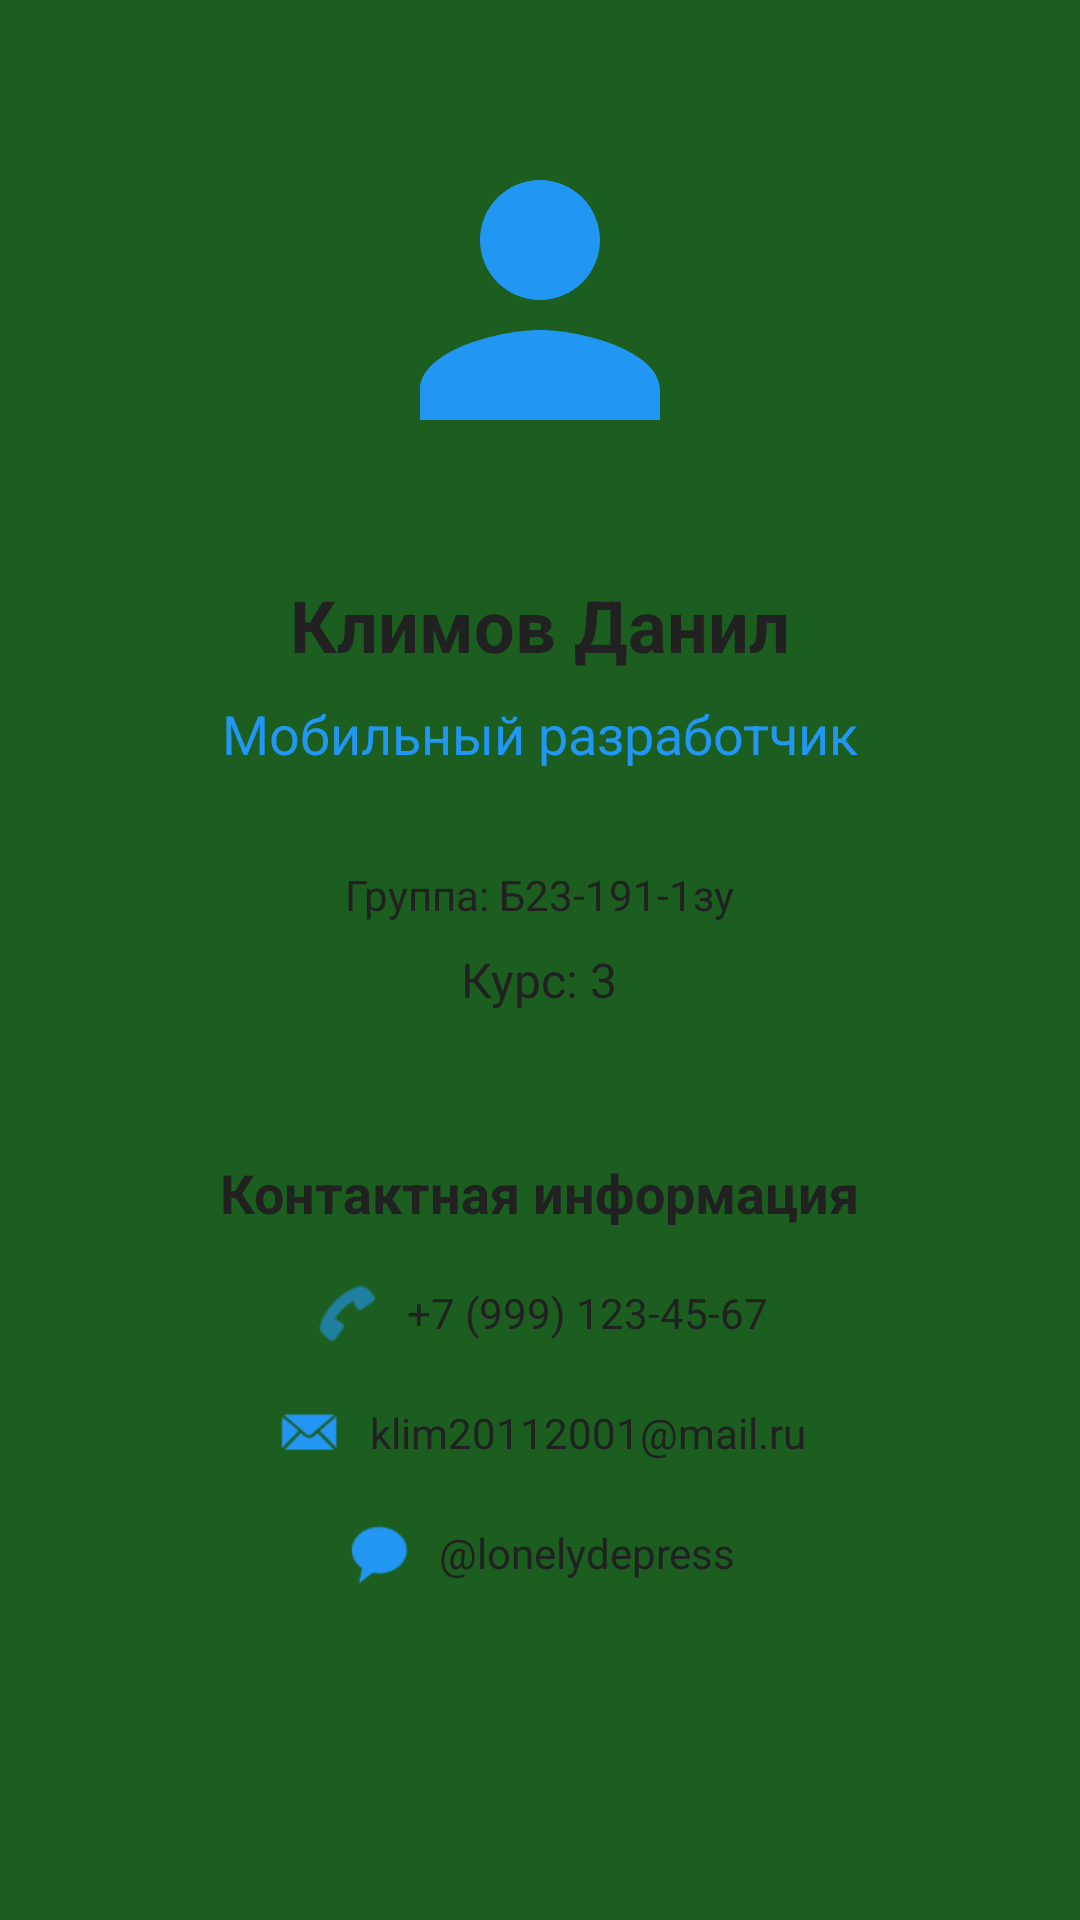

Icon bounding boxes for this 1080x1920 phone screenshot, format (x1, y1, x2, y2):
call: (319, 1285, 376, 1342)
sym action chat: (351, 1526, 408, 1584)
sym action email: (281, 1414, 337, 1450)
